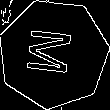M_E: (25, 28, 82, 80)
